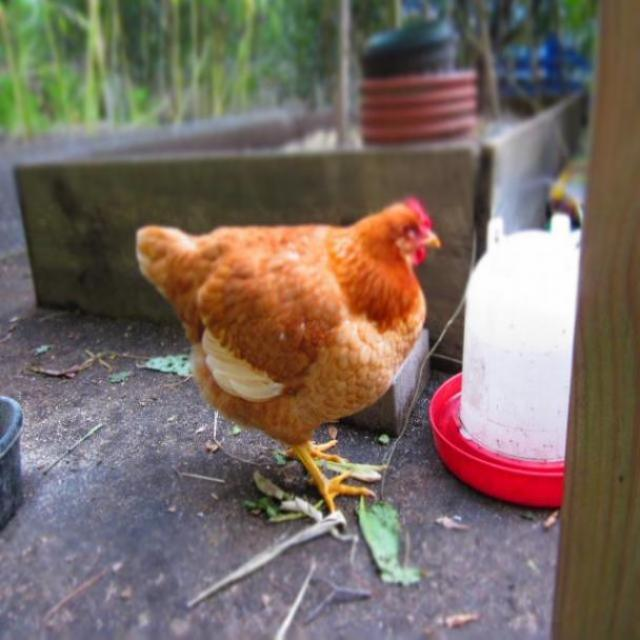Chicken: (136, 195, 444, 510)
